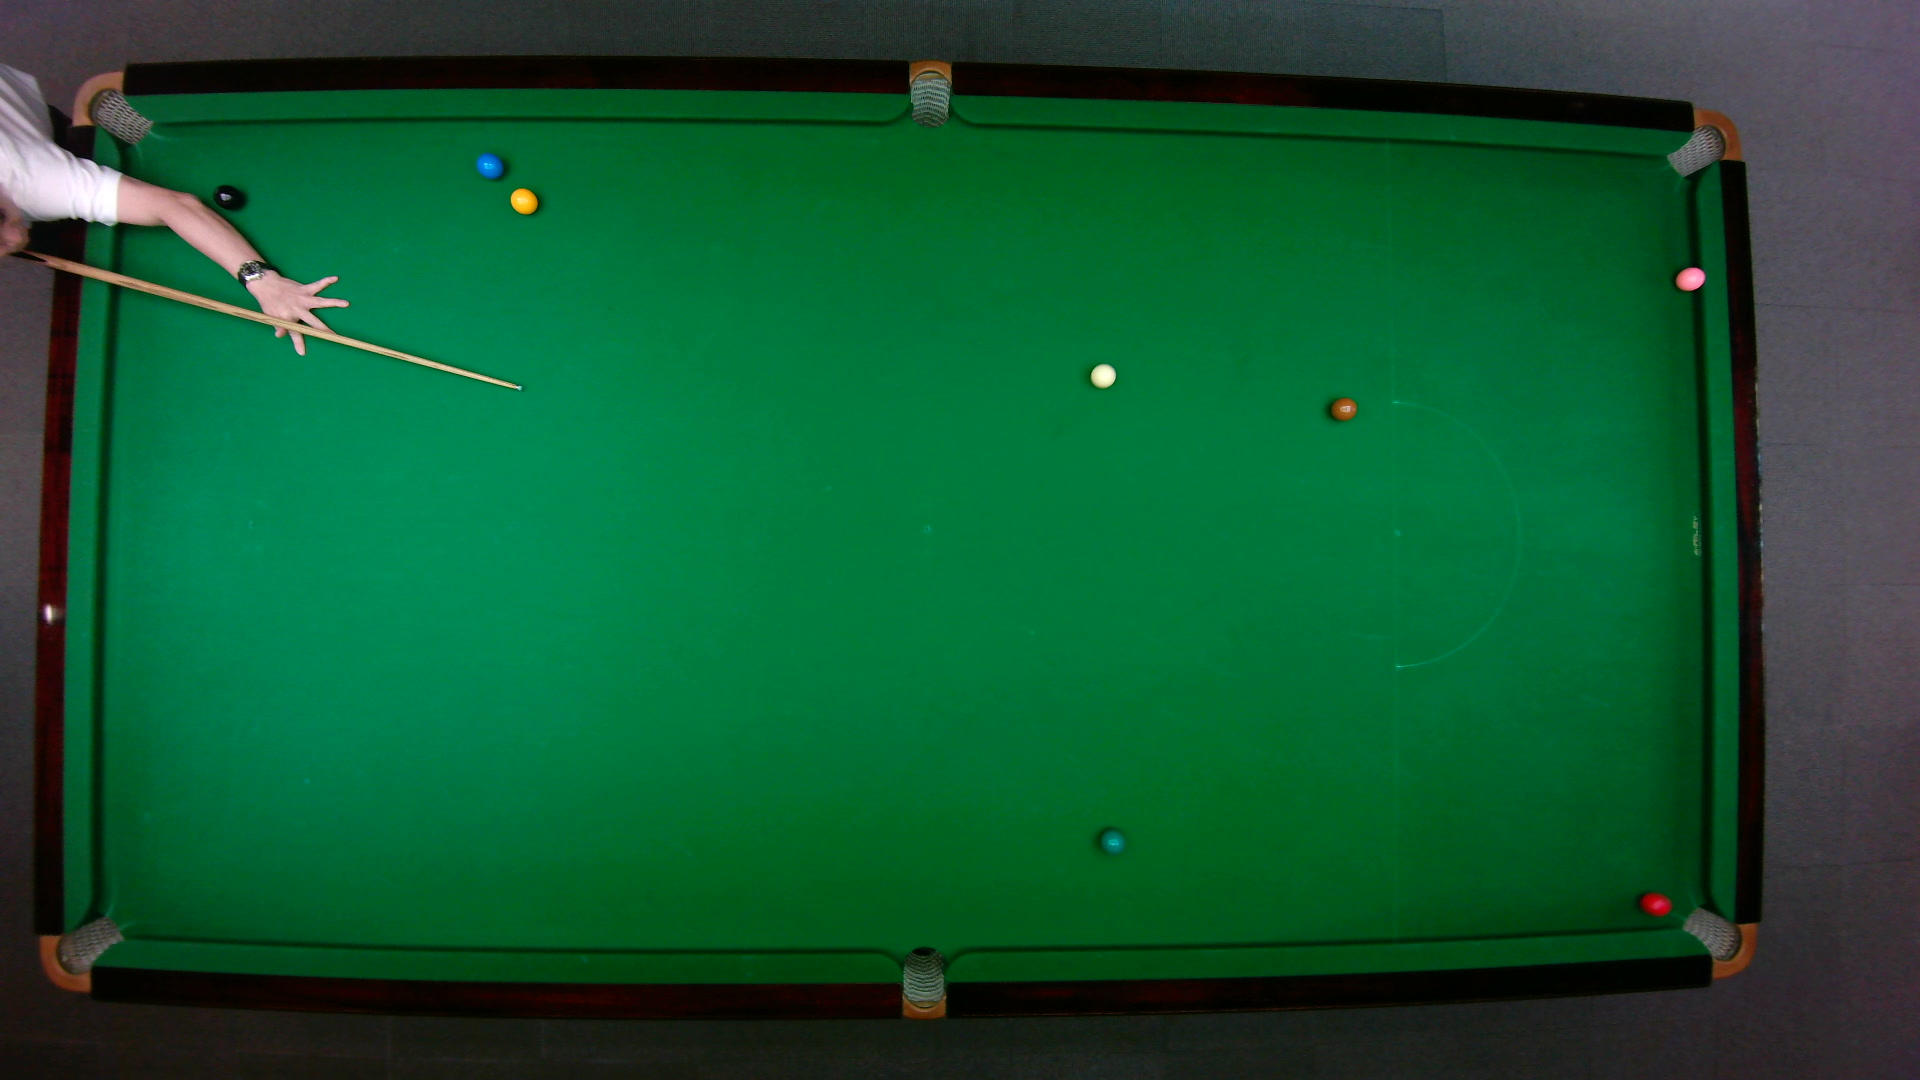bag: (37, 914, 125, 993), (69, 69, 153, 144), (1680, 905, 1758, 978), (1663, 107, 1742, 178), (901, 944, 944, 1021), (909, 58, 949, 128)
black: (212, 183, 243, 210)
blue: (475, 152, 504, 179)
brown: (1328, 396, 1358, 421)
cue: (1, 243, 524, 392)
green: (1097, 827, 1126, 855)
pink: (1673, 264, 1706, 291)
red: (1638, 890, 1672, 916)
white: (1087, 363, 1117, 388)
yellow: (506, 186, 539, 215)
zone: (1390, 398, 1519, 669)
